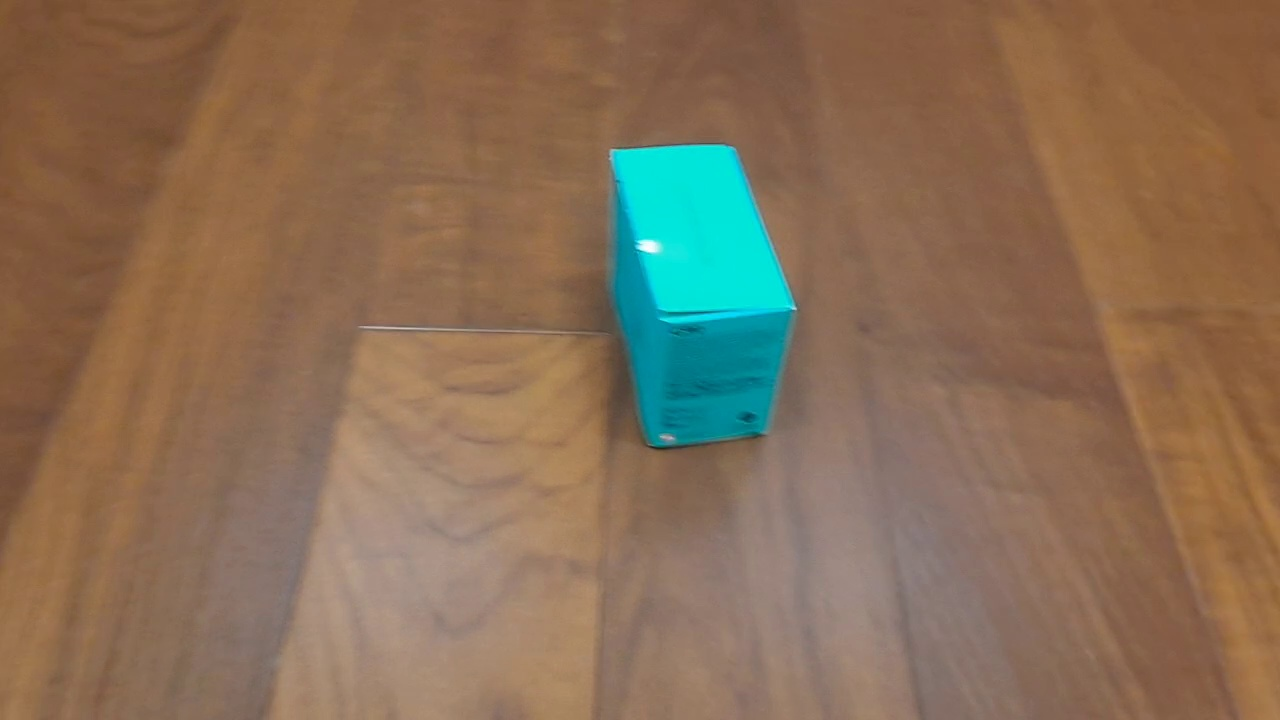webcam: (604, 142, 800, 452)
